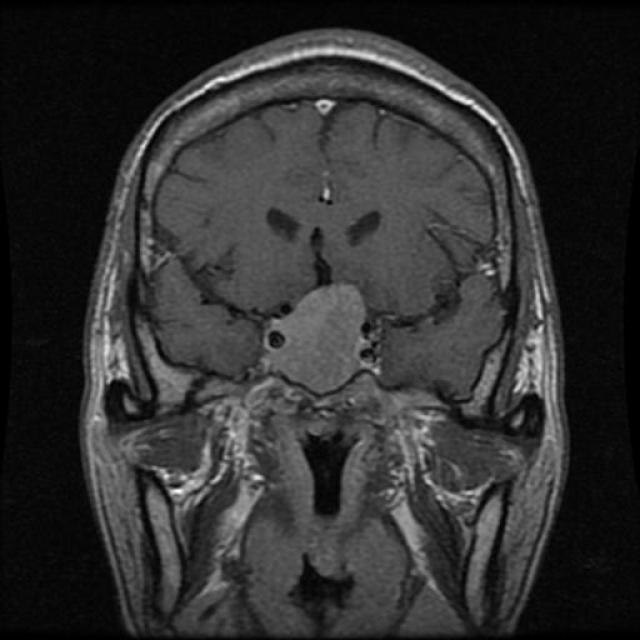Brain-Tumor: (253, 271, 386, 406)
